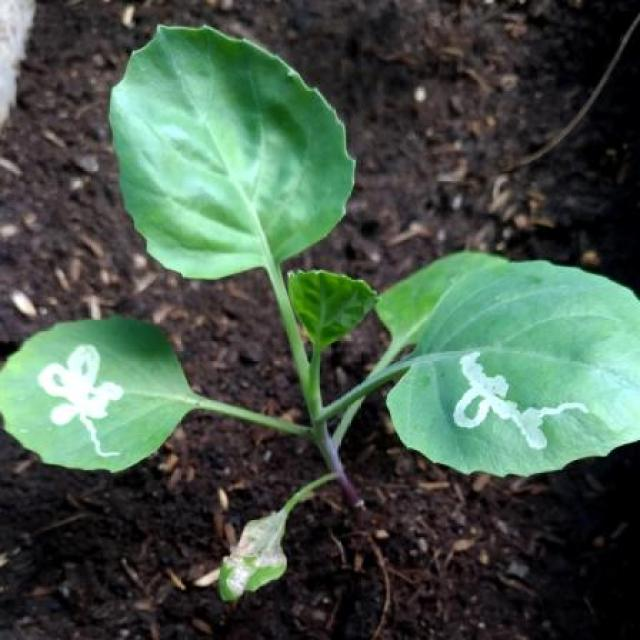Leaf Miner: (390, 258, 640, 479), (0, 313, 189, 476)
